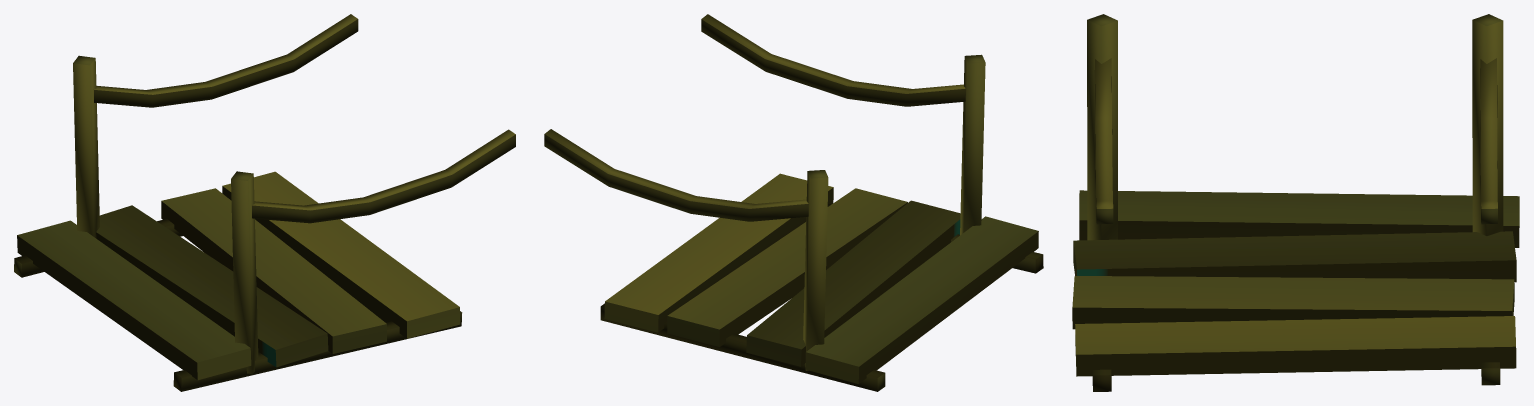
The model's file is Bridge_Part_Small_0_1.fbx.
3 renders of one model, left to right at view 1: azimuth 30°, elevation 25°; view 2: azimuth 150°, elevation 25°; view 3: azimuth 270°, elevation 25°, orthographic. The views are drawn at different scales.
Visible parts, largest first — view 1: Cube.057, Cube.058; view 2: Cube.057, Cube.058; view 3: Cube.057, Cube.058.
Boxes of the visible parts, bbox=[...] form: Cube.057: bbox=[14, 55, 462, 391]; Cube.058: bbox=[94, 14, 515, 223]; Cube.057: bbox=[600, 54, 1043, 391]; Cube.058: bbox=[544, 14, 965, 221]; Cube.057: bbox=[1072, 14, 1519, 391]; Cube.058: bbox=[1094, 58, 1497, 224].
Bounding box in the file's own units: 74.65 × 42.44 × 70.48.
